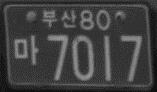0: (71, 34, 94, 80), (96, 9, 110, 30)
1: (99, 34, 115, 80)
7: (120, 34, 142, 83), (47, 34, 69, 80)
8: (79, 10, 94, 29)
마: (13, 34, 39, 65)
부산_O: (41, 9, 77, 28)
